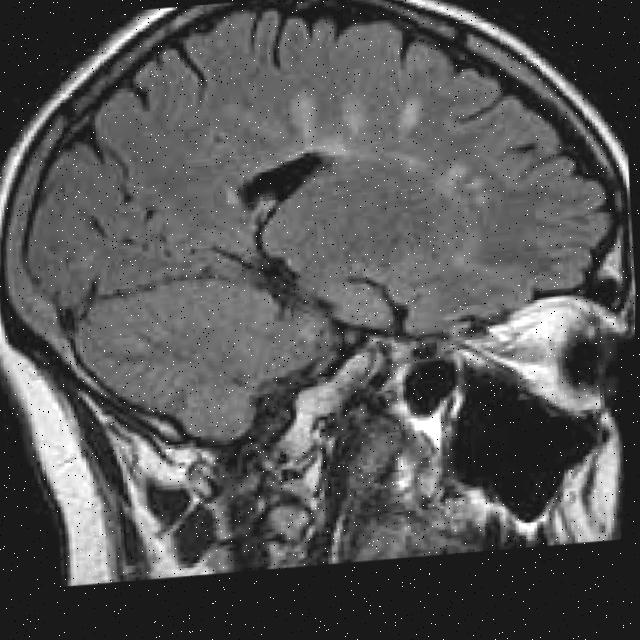NoTumor: (0, 0, 640, 465)
